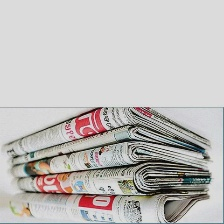news_paper: (0, 107, 224, 223)
